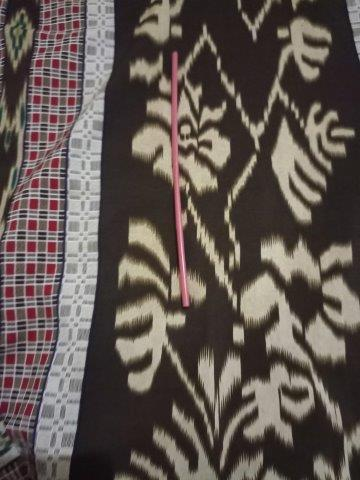sedotan: (171, 51, 188, 307)
